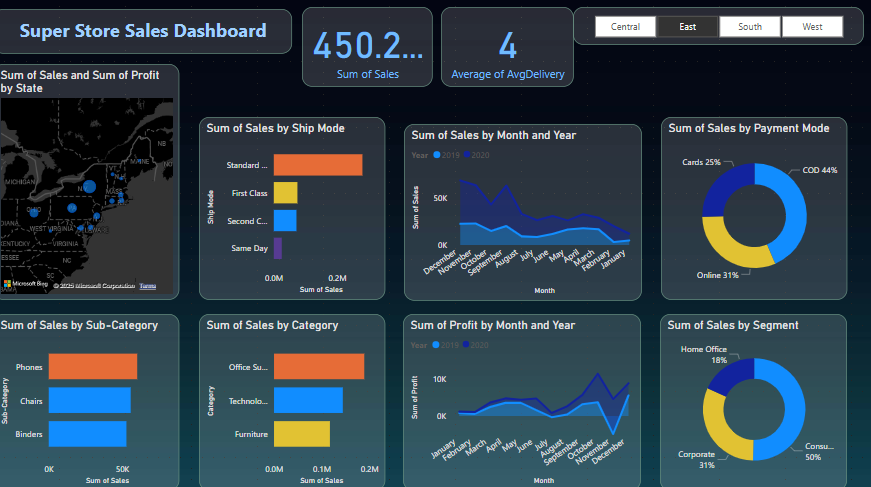

What the dashboard file says about the page in this screenshot:
{"tool":"powerbi","page":{"name":"Page 1","canvas":[1280,720],"ordinal":0},"visuals":[{"type":"clusteredBarChart","fields":{"Category":["SuperStore_Sales_Dataset.Category"],"Y":["Sum(SuperStore_Sales_Dataset.Sales)"]},"box":[299.1,463.5,270.7,256.5],"z":0},{"type":"clusteredBarChart","fields":{"Category":["SuperStore_Sales_Dataset.Sub-Category"],"Y":["Sum(SuperStore_Sales_Dataset.Sales)"]},"box":[0,463.5,270.7,256.5],"z":1000},{"type":"clusteredBarChart","fields":{"Category":["SuperStore_Sales_Dataset.Ship Mode"],"Y":["Sum(SuperStore_Sales_Dataset.Sales)"]},"box":[299.1,177.2,270.7,266.5],"z":2000},{"type":"stackedAreaChart","fields":{"Series":["SuperStore_Sales_Dataset.Order Date.Variation.Date Hierarchy.Year"],"Category":["SuperStore_Sales_Dataset.Order Date.Variation.Date Hierarchy.Month"],"Y":["Sum(SuperStore_Sales_Dataset.Profit)"]},"box":[596.7,463.5,345.8,256.5],"z":3000},{"type":"donutChart","fields":{"Category":["SuperStore_Sales_Dataset.Segment"],"Y":["Sum(SuperStore_Sales_Dataset.Sales)"]},"box":[970.9,463.5,272.1,256.5],"z":4000},{"type":"donutChart","fields":{"Category":["SuperStore_Sales_Dataset.Payment Mode"],"Y":["Sum(SuperStore_Sales_Dataset.Sales)"]},"box":[972.3,177.2,270.7,266.5],"z":5000},{"type":"slicer","fields":{"Values":["SuperStore_Sales_Dataset.Region"]},"box":[843.8,17.5,422.5,55],"z":6000},{"type":"textbox","box":[0,19.8,435.1,65.2],"z":7000},{"type":"card","fields":{"Values":["Sum(SuperStore_Sales_Dataset.Sales)"]},"box":[450,17.1,190,115.7],"z":8000},{"type":"map","fields":{"Category":["SuperStore_Sales_Dataset.State"],"Size":["Sum(SuperStore_Sales_Dataset.Sales)"]},"box":[0,100.6,270.7,343],"z":9000},{"type":"card","fields":{"Values":["Avg(SuperStore_Sales_Dataset.AvgDelivery)"]},"box":[651.4,17.1,192.9,115.7],"z":10000},{"type":"stackedAreaChart","fields":{"Category":["SuperStore_Sales_Dataset.Order Date.Variation.Date Hierarchy.Month"],"Y":["Sum(SuperStore_Sales_Dataset.Sales)"],"Series":["SuperStore_Sales_Dataset.Order Date.Variation.Date Hierarchy.Year"]},"box":[597.1,187.1,345.7,257.1],"z":11000}]}

Visuals, with their boxes in screenshot pixels (x1, y1, x2, y2), scaled from the page's 1280x720 canvas onto the 871x487 screenshot:
clusteredBarChart - SuperStore_Sales_Dataset.Category x Sum(SuperStore_Sales_Dataset.Sales): 204/314/388/486
clusteredBarChart - SuperStore_Sales_Dataset.Sub-Category x Sum(SuperStore_Sales_Dataset.Sales): 0/314/184/486
clusteredBarChart - SuperStore_Sales_Dataset.Ship Mode x Sum(SuperStore_Sales_Dataset.Sales): 204/120/388/300
stackedAreaChart - SuperStore_Sales_Dataset.Order Date.Variation.Date Hierarchy.Year x SuperStore_Sales_Dataset.Order Date.Variation.Date Hierarchy.Month: 406/314/641/486
donutChart - SuperStore_Sales_Dataset.Segment x Sum(SuperStore_Sales_Dataset.Sales): 661/314/846/486
donutChart - SuperStore_Sales_Dataset.Payment Mode x Sum(SuperStore_Sales_Dataset.Sales): 662/120/846/300
slicer - SuperStore_Sales_Dataset.Region: 574/12/862/49
textbox: 0/13/296/57
card - Sum(SuperStore_Sales_Dataset.Sales): 306/12/436/90
map - SuperStore_Sales_Dataset.State x Sum(SuperStore_Sales_Dataset.Sales): 0/68/184/300
card - Avg(SuperStore_Sales_Dataset.AvgDelivery): 443/12/575/90
stackedAreaChart - SuperStore_Sales_Dataset.Order Date.Variation.Date Hierarchy.Month x Sum(SuperStore_Sales_Dataset.Sales): 406/127/642/300
